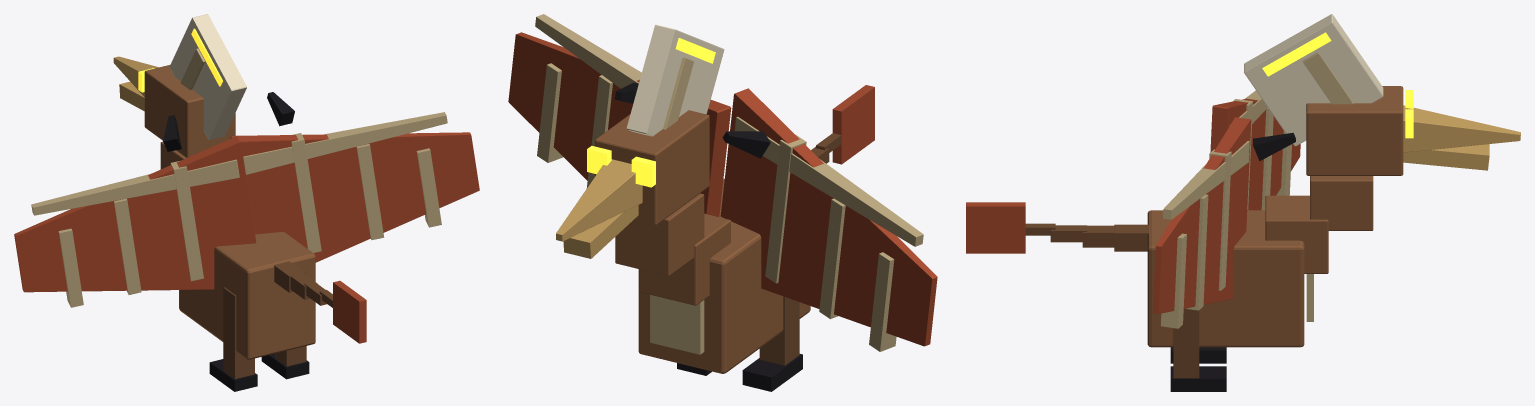
The model's file is pterodactyl.glb.
3 views of the same model, side by side, from view 1: azimuth 30°, elevation 25°; view 2: azimuth 150°, elevation 25°; view 3: azimuth 270°, elevation 25° (orthographic). The views are drawn at different scales.
Visible parts, largest first — view 1: wing.R, wing.L, body, head, tail, leg.FR, leg.FL; view 2: wing.R, body, head, wing.L, leg.FR, tail; view 3: head, body, wing.L, tail, wing.R, leg.FL, leg.FR.
Boxes of the visible parts, <box> form: wing.R: <box>14,115,256,307</box>; wing.L: <box>230,92,479,262</box>; body: <box>160,141,315,359</box>; head: <box>113,14,246,157</box>; tail: <box>274,261,366,343</box>; leg.FR: <box>209,287,257,391</box>; leg.FL: <box>261,346,309,379</box>; wing.R: <box>720,88,937,351</box>; body: <box>615,179,810,373</box>; head: <box>556,24,724,258</box>; wing.L: <box>508,14,731,216</box>; leg.FR: <box>742,296,802,391</box>; tail: <box>811,85,874,164</box>; head: <box>1244,14,1520,175</box>; body: <box>1147,176,1373,347</box>; wing.L: <box>1152,117,1295,328</box>; tail: <box>966,202,1148,253</box>; wing.R: <box>1210,90,1300,210</box>; leg.FL: <box>1170,308,1226,391</box>; leg.FR: <box>1170,347,1226,363</box>.
Size of the model in its own units: 1.34 by 1 by 1.42.
